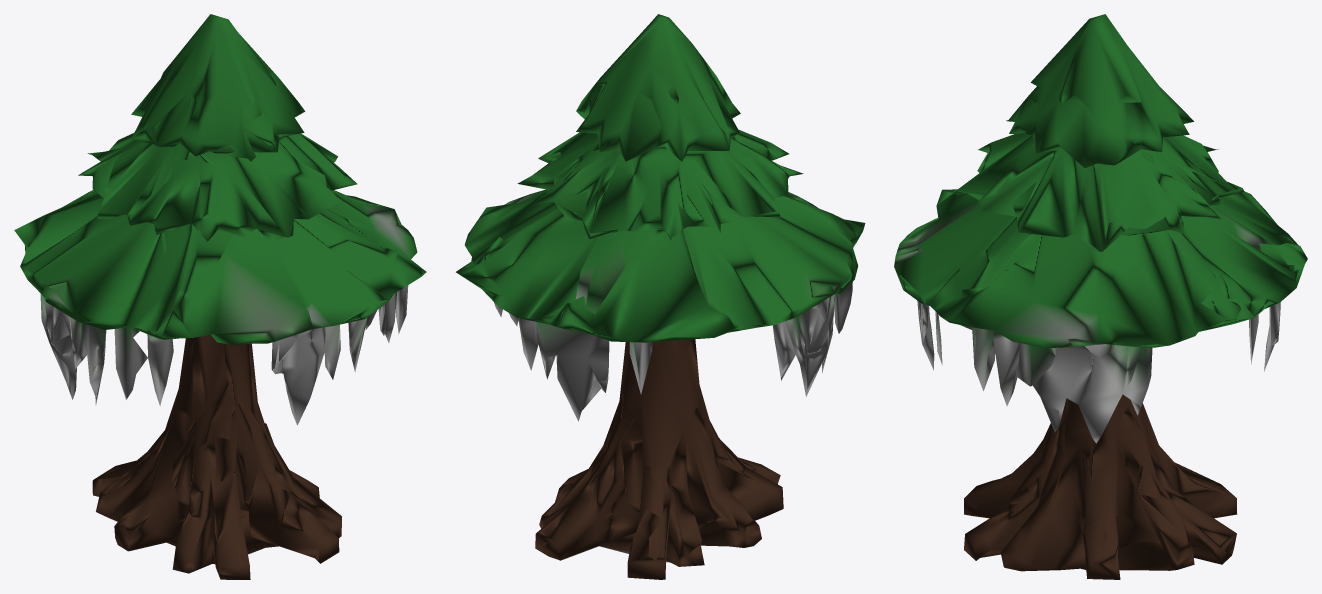
The model's file is gen3d-cypress-tree-lod0.glb.
3 renders of one model, left to right at view 1: azimuth 30°, elevation 25°; view 2: azimuth 150°, elevation 25°; view 3: azimuth 270°, elevation 25°, orthographic. The views are drawn at different scales.
Parts seen in each view (by area): view 1: part_0; view 2: part_0; view 3: part_0.
Part boxes in pixels (x1,y1,x2,y2): part_0: [14, 14, 426, 579]; part_0: [456, 14, 865, 579]; part_0: [894, 14, 1307, 579].
Size of the model in its own units: 0.6691 by 0.9925 by 0.6703.
